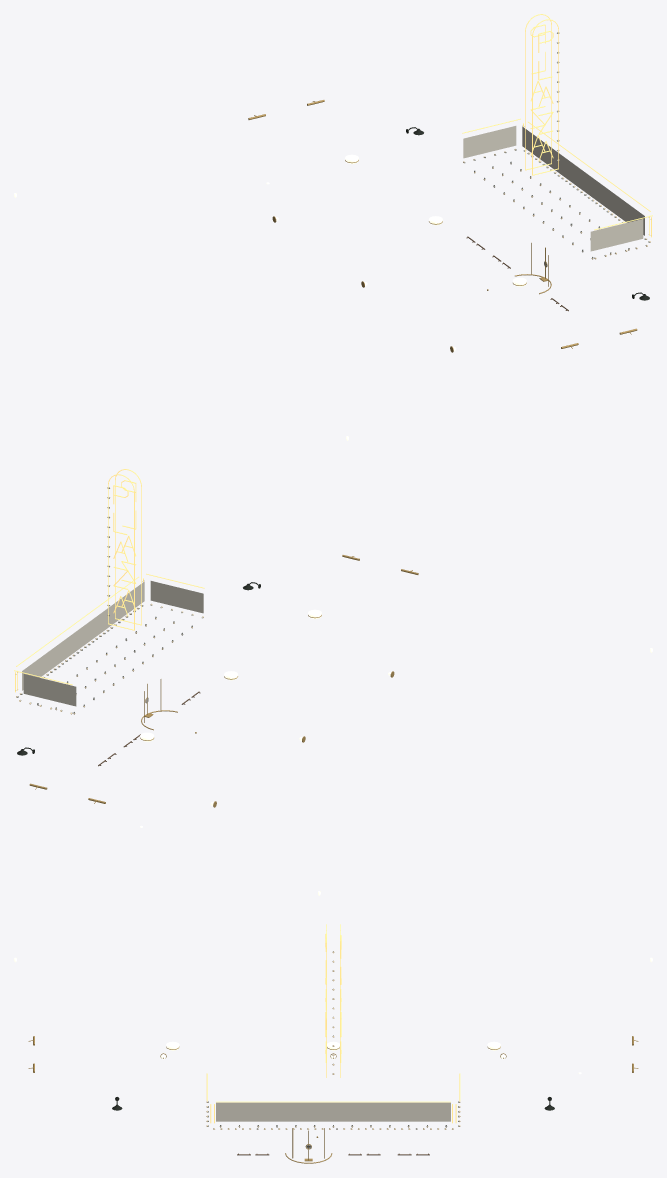
File: SM_Town_Cinema_Fixtures.fbx
3 views of the same model, one above another, from view 1: azimuth 30°, elevation 25°; view 2: azimuth 150°, elevation 25°; view 3: azimuth 270°, elevation 25° (orthographic). The views are drawn at different scales.
Parts seen in each view (by area): view 1: SM_Town_Cinema_Fixtures; view 2: SM_Town_Cinema_Fixtures; view 3: SM_Town_Cinema_Fixtures.
Part boxes in pixels (<box>): SM_Town_Cinema_Fixtures: <box>14,14,652,440</box>; SM_Town_Cinema_Fixtures: <box>14,469,652,895</box>; SM_Town_Cinema_Fixtures: <box>14,924,652,1163</box>.
Size of the model in its own units: 14.65 by 20.68 by 8.63.
